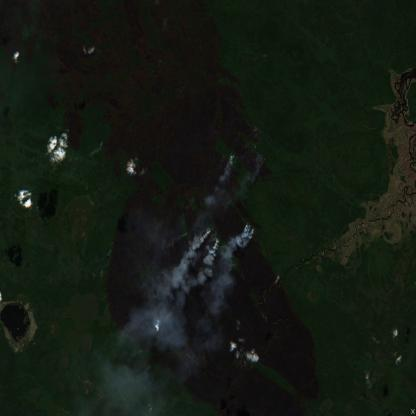fire: (250, 138, 269, 186), (217, 144, 237, 180), (200, 224, 223, 254), (240, 219, 254, 240), (96, 137, 105, 152)
